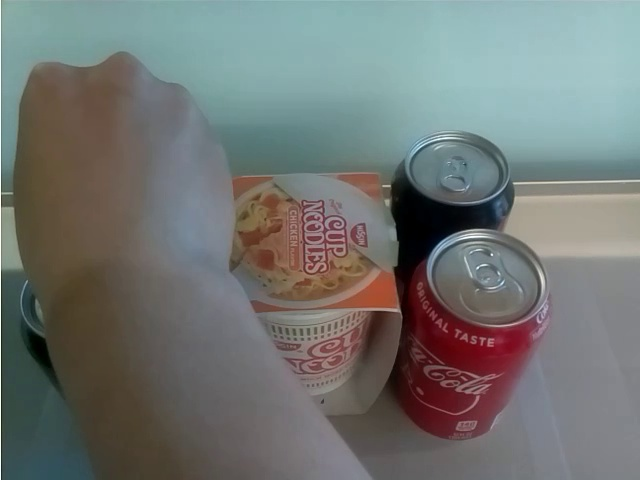cocacola: (405, 226, 550, 442), (391, 124, 519, 230)
hand: (7, 51, 237, 311)
noodles: (235, 169, 398, 418)
